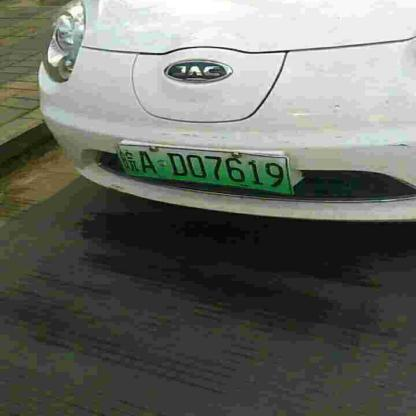lp: (112, 146, 294, 194)
